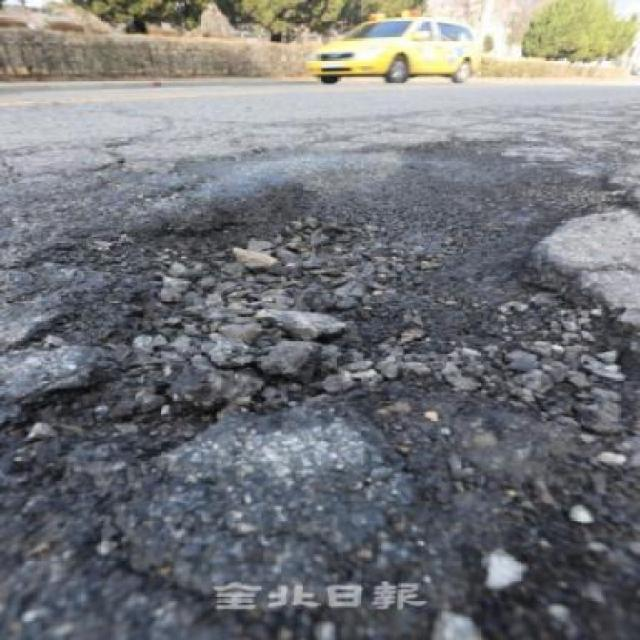Pothole: (52, 213, 638, 416)
